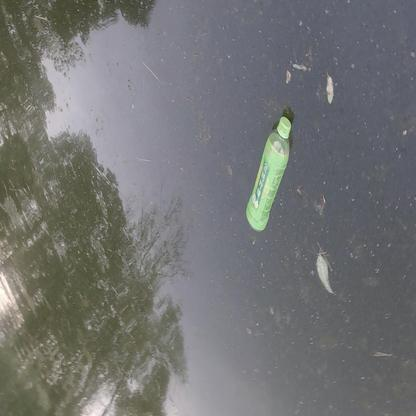plastic bottle: (245, 115, 292, 232)
